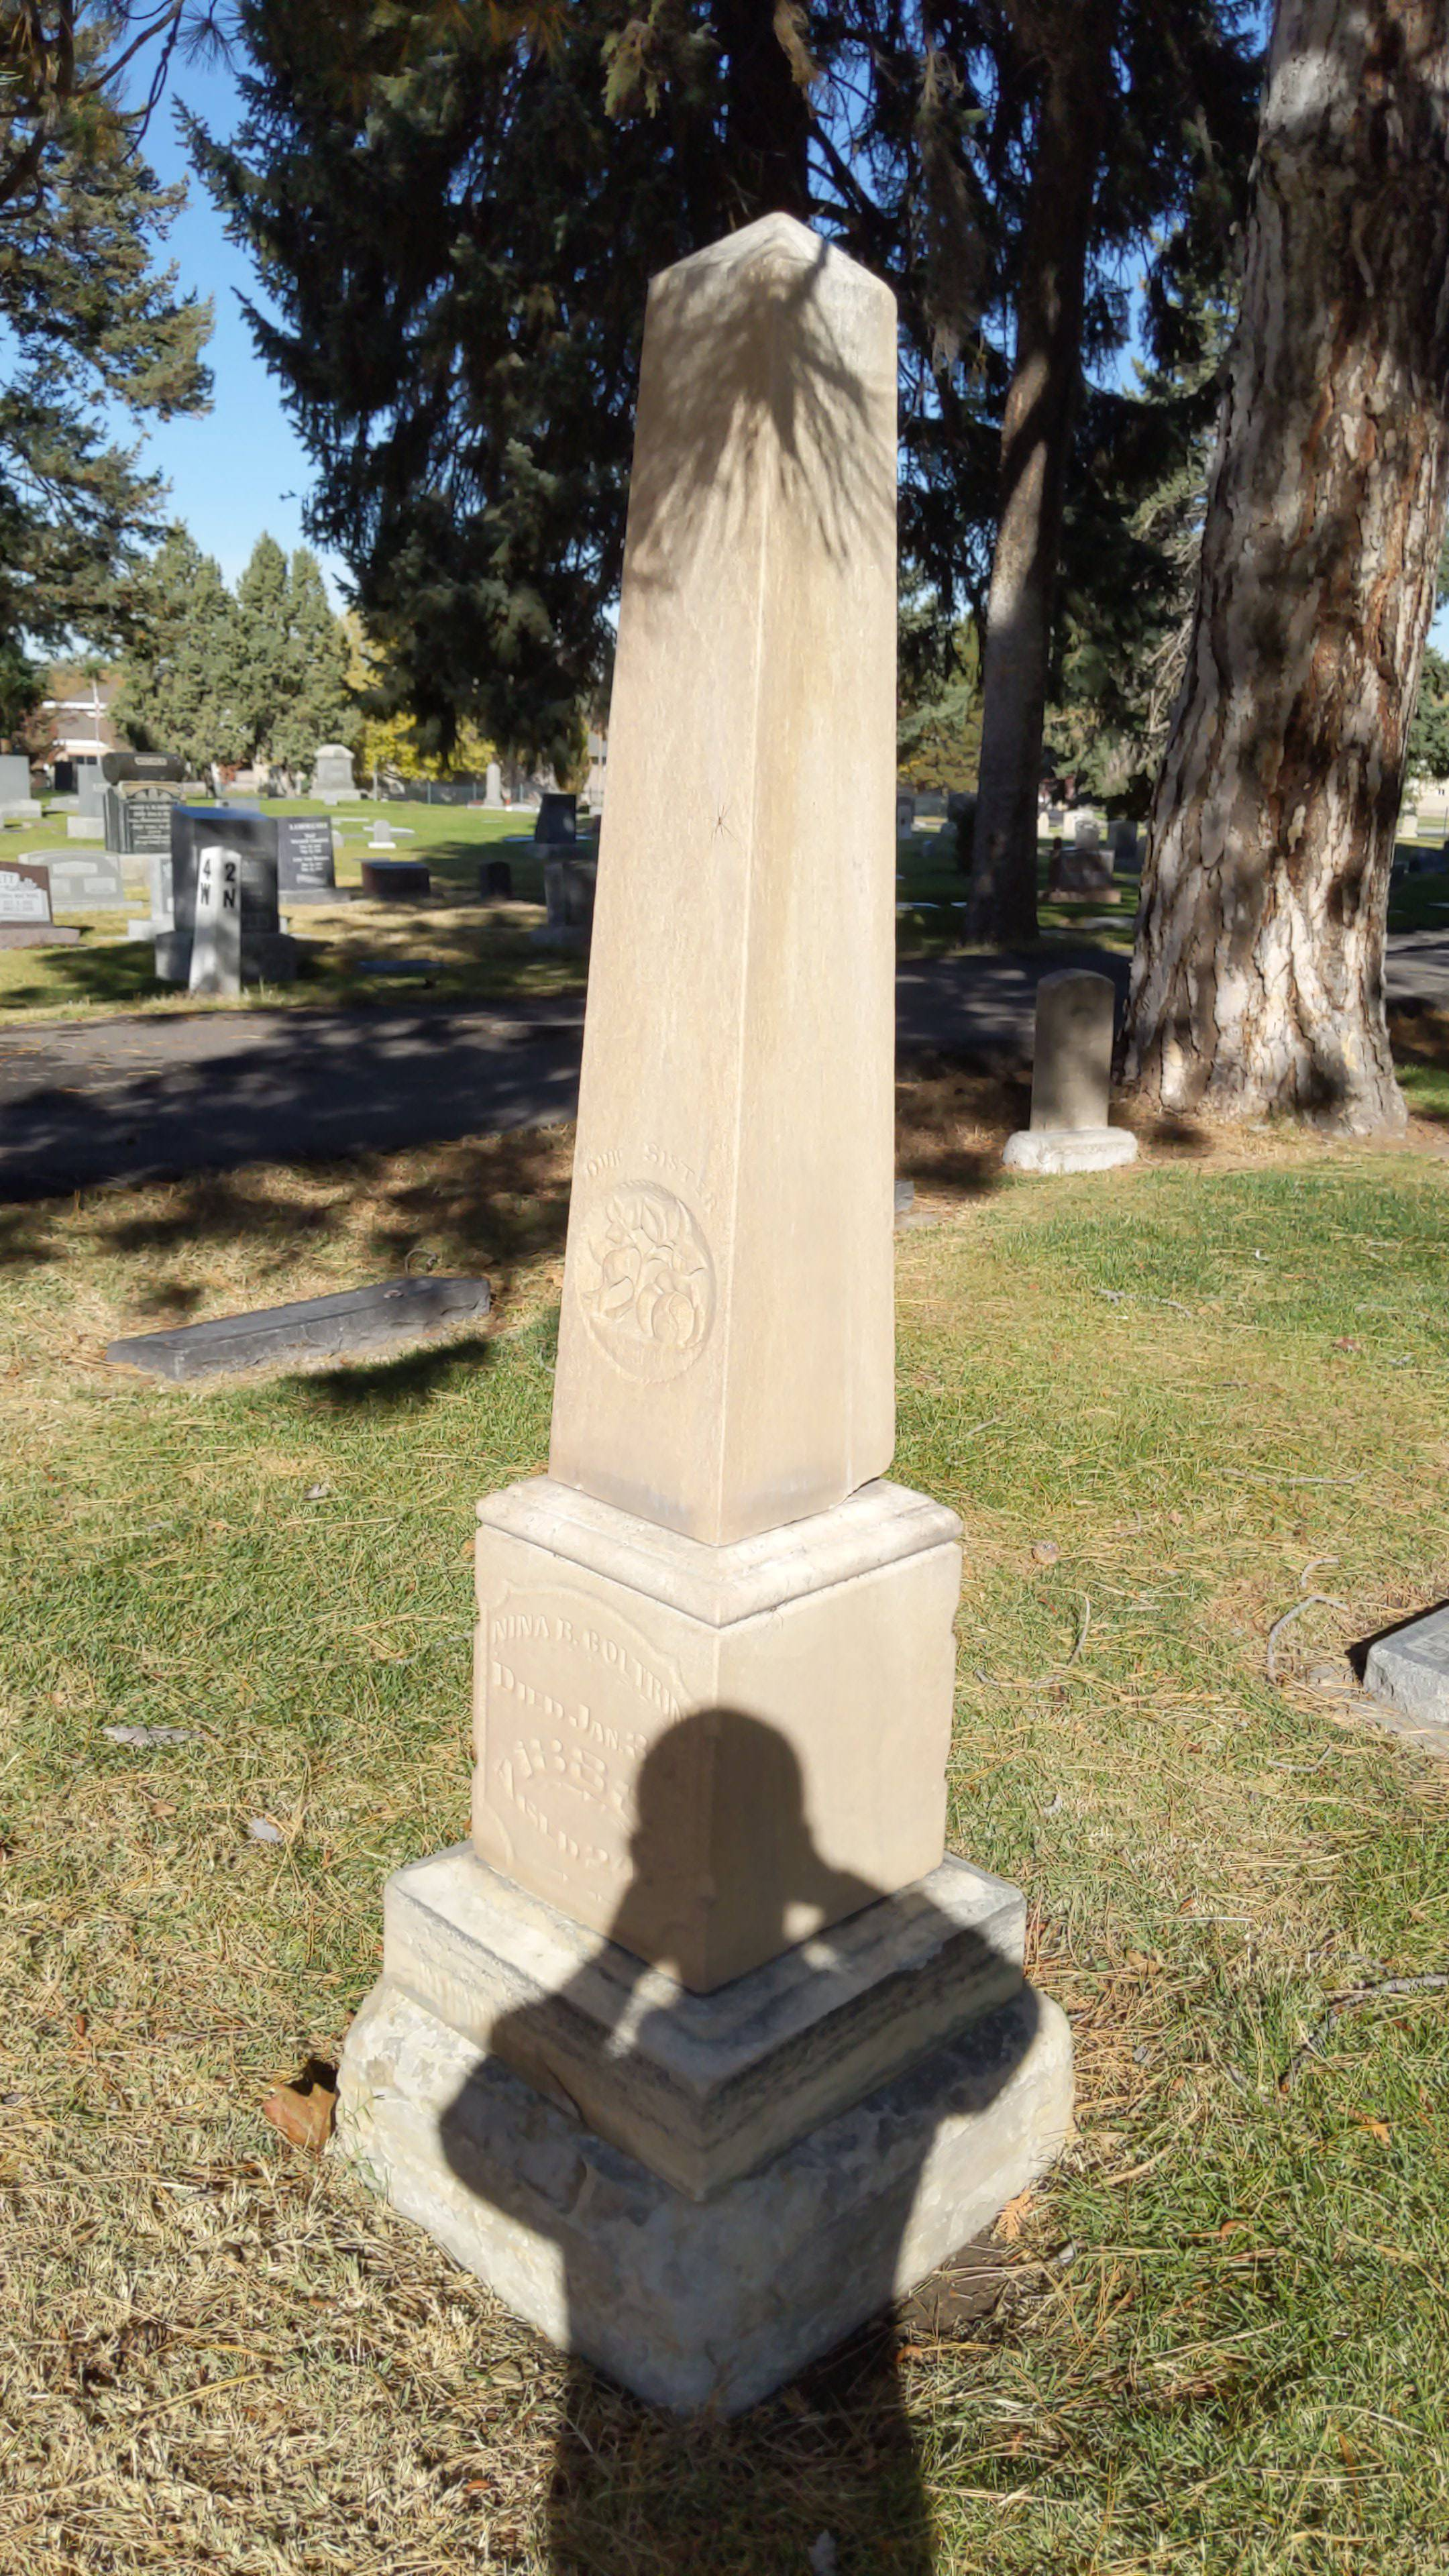obelisk: (474, 212, 945, 1976)
